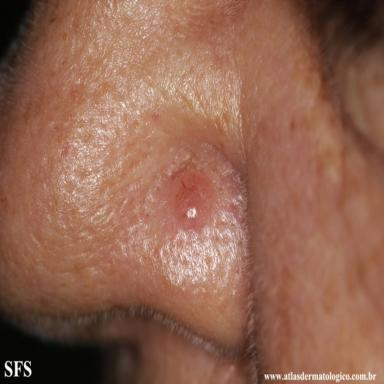basal-cell-carcinoma: (169, 162, 216, 228)
